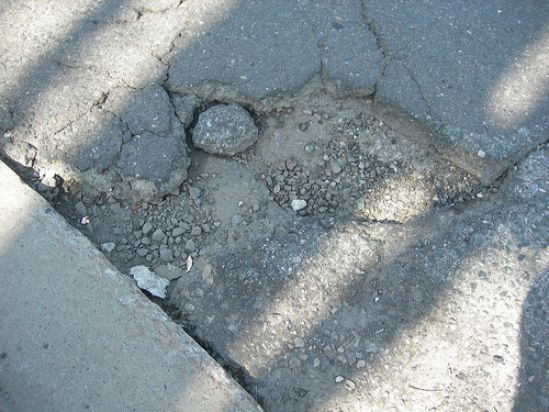pothole: (44, 70, 510, 363)
